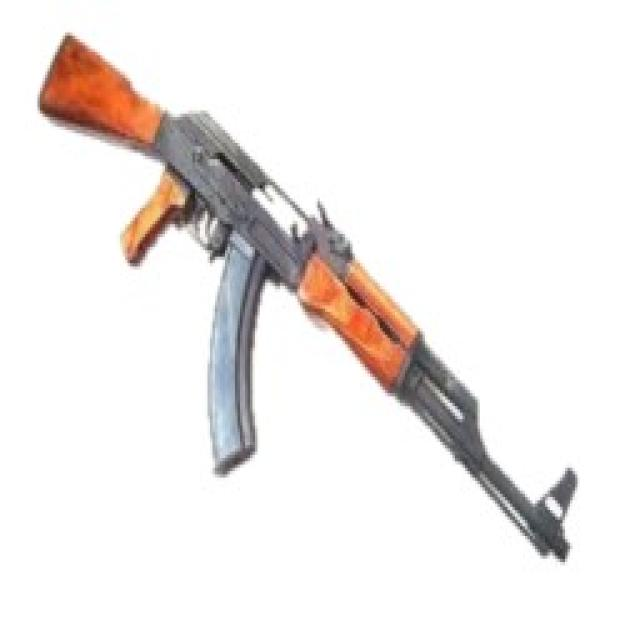rifle: (30, 19, 581, 572)
